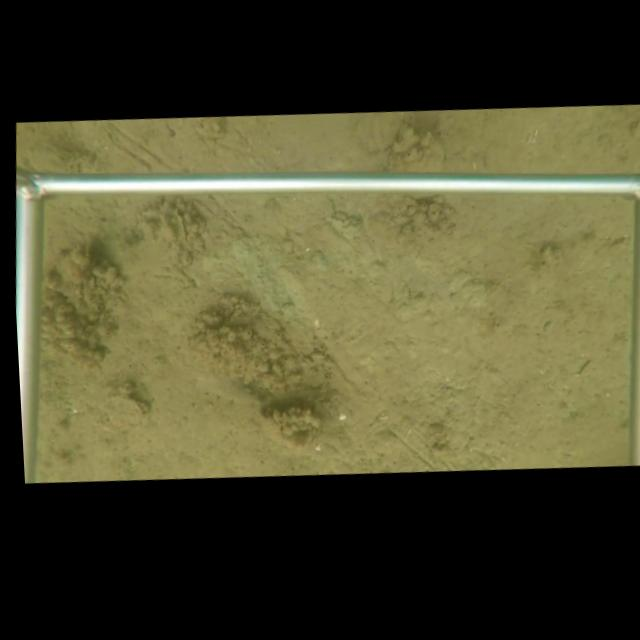Oyster-Closed: (171, 203, 190, 248)
Oyster-Indeterminate: (355, 113, 404, 154)
